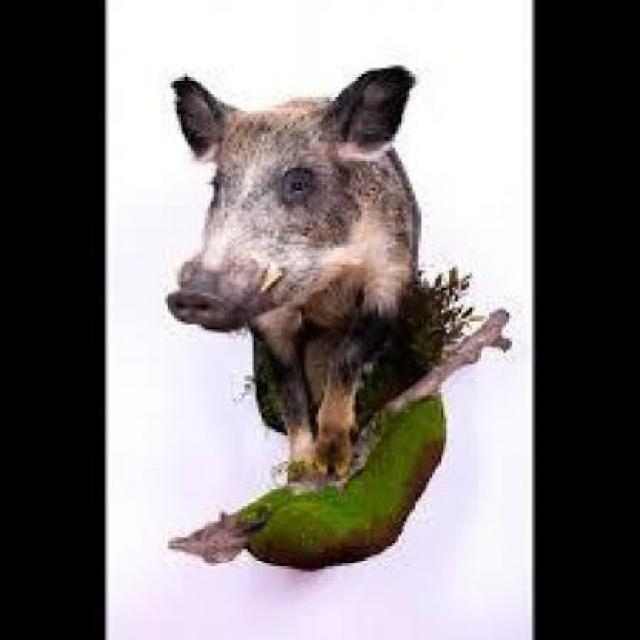Wild Boar: (149, 50, 454, 515)
